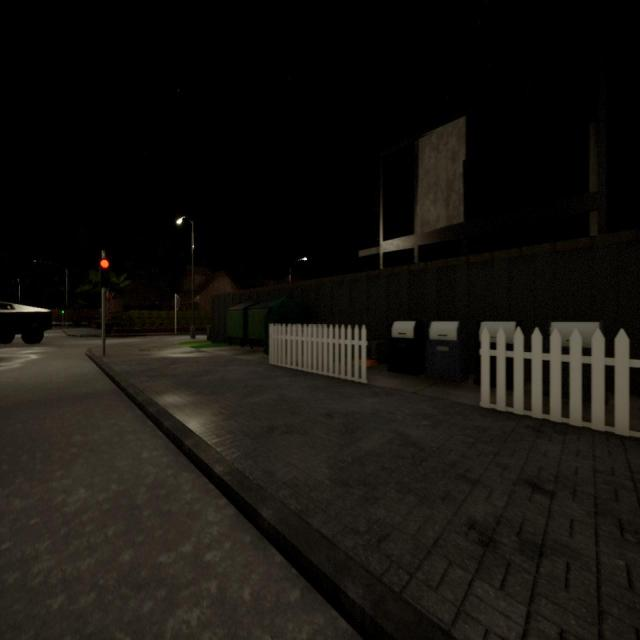Vehicle: (0, 302, 52, 344)
traffic_light: (99, 258, 109, 287), (176, 298, 180, 308), (61, 305, 65, 314)
